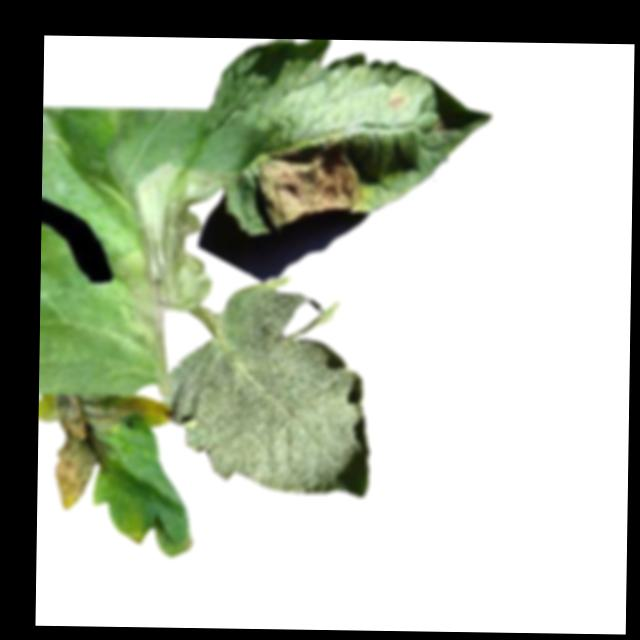Late_blight: (108, 160, 230, 381), (39, 394, 168, 513), (255, 136, 361, 226), (385, 92, 406, 110)
healthy: (161, 272, 370, 497)
